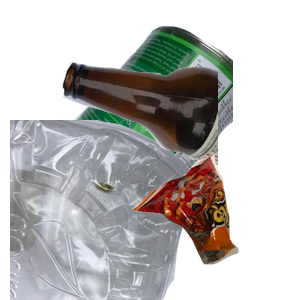glass: (60, 59, 300, 217)
metal: (60, 23, 300, 203)
plastic: (10, 120, 197, 300)
trash: (130, 153, 300, 300)
